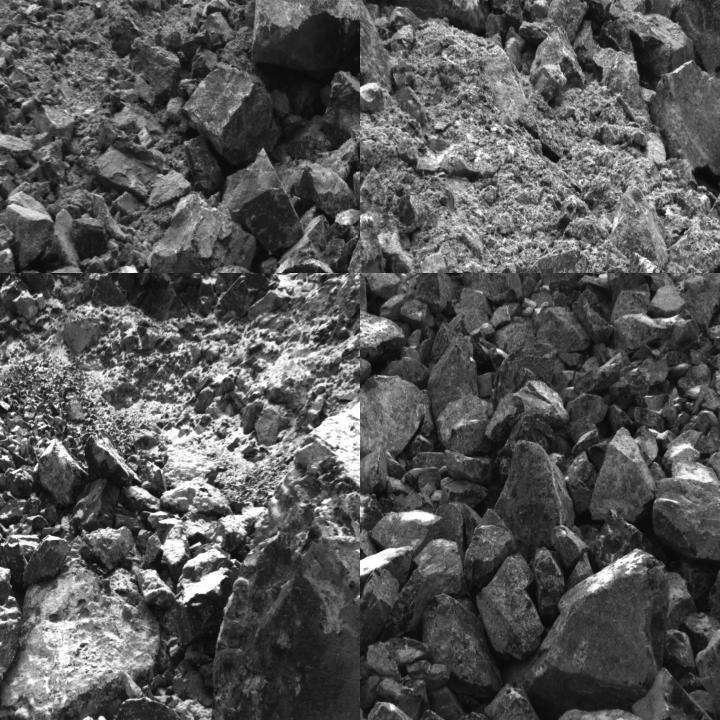stone: (206, 395, 359, 719), (0, 569, 160, 719), (521, 564, 670, 706), (183, 64, 280, 166), (495, 439, 577, 558), (221, 144, 304, 256), (153, 191, 258, 272), (424, 595, 502, 701), (649, 61, 719, 178), (385, 539, 465, 638), (258, 0, 359, 77), (475, 552, 546, 661), (177, 545, 246, 643), (599, 178, 669, 272), (652, 472, 719, 569), (594, 19, 650, 130), (592, 429, 656, 524), (360, 374, 430, 457), (485, 380, 570, 445), (490, 342, 556, 419), (429, 333, 479, 420), (465, 509, 516, 590), (4, 191, 55, 265), (597, 510, 657, 570), (360, 567, 400, 657), (435, 395, 494, 456), (378, 0, 487, 32), (129, 36, 181, 103), (674, 0, 719, 77), (37, 439, 87, 507), (84, 430, 142, 486), (372, 512, 443, 557), (530, 27, 584, 84), (360, 0, 393, 93), (360, 0, 393, 90), (322, 71, 359, 147), (162, 477, 234, 516), (296, 166, 351, 216), (529, 548, 564, 624), (360, 306, 405, 365), (21, 538, 72, 590), (0, 593, 22, 711), (74, 478, 120, 534), (84, 526, 134, 577), (537, 308, 592, 354), (76, 698, 192, 719), (446, 273, 527, 303), (572, 288, 614, 345), (184, 132, 223, 188), (207, 514, 250, 564), (486, 683, 541, 719), (91, 190, 131, 236), (415, 273, 458, 314), (548, 0, 588, 43), (621, 251, 701, 272), (392, 192, 430, 236), (610, 282, 651, 322), (621, 251, 699, 272), (608, 273, 650, 312), (148, 168, 192, 205), (73, 214, 111, 256), (524, 246, 583, 272), (529, 65, 571, 100), (360, 447, 391, 494), (164, 522, 189, 579), (137, 569, 176, 605), (195, 13, 234, 48), (35, 138, 63, 186), (646, 284, 686, 317), (553, 0, 614, 21), (552, 526, 583, 566), (538, 273, 597, 293), (360, 82, 397, 113), (263, 257, 338, 272), (635, 0, 683, 22), (190, 46, 218, 78), (0, 133, 34, 159), (270, 88, 293, 118), (144, 532, 162, 570), (115, 194, 141, 219), (707, 181, 719, 235), (0, 219, 16, 252), (165, 94, 182, 122), (0, 249, 20, 272), (204, 0, 231, 14), (0, 162, 7, 193)
